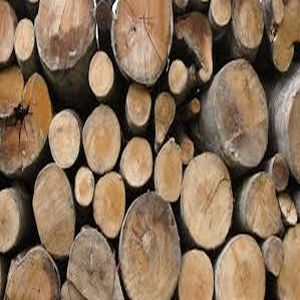log: (116, 190, 181, 300), (210, 56, 271, 172), (109, 1, 174, 89), (178, 148, 234, 250), (2, 67, 50, 177), (30, 162, 80, 262), (59, 227, 120, 300), (35, 1, 97, 70), (215, 230, 267, 300), (173, 13, 217, 91), (82, 102, 122, 174), (240, 171, 281, 239), (4, 250, 57, 300), (91, 171, 128, 240), (268, 1, 300, 73), (46, 109, 81, 168), (152, 139, 182, 204), (119, 135, 155, 189), (178, 247, 214, 300), (232, 1, 268, 53), (150, 90, 177, 153), (86, 50, 116, 100), (1, 189, 23, 257), (125, 85, 152, 131), (264, 234, 287, 280), (168, 56, 189, 99), (276, 193, 300, 229), (14, 18, 34, 61), (74, 166, 95, 206), (269, 157, 292, 191), (209, 1, 231, 27), (180, 139, 194, 165)
